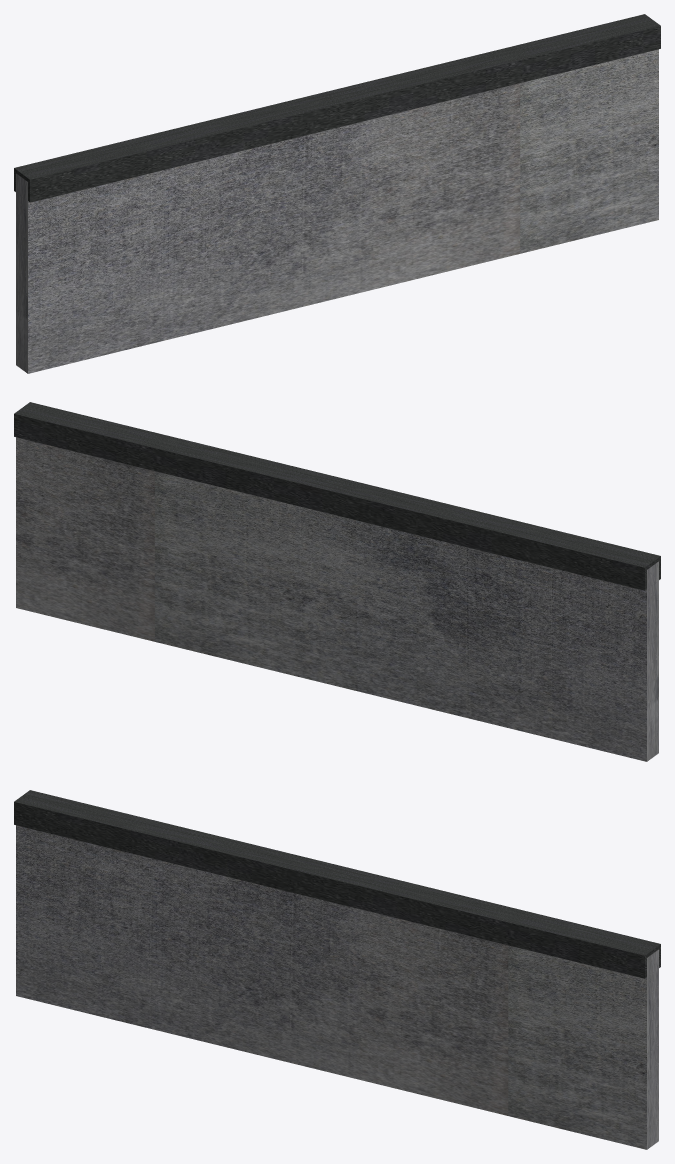
The model's file is Course_Wall.fbx.
3 renders of one model, top to bottom at view 1: azimuth 30°, elevation 25°; view 2: azimuth 150°, elevation 25°; view 3: azimuth 330°, elevation 25°, orthographic.
Parts seen in each view (by area): view 1: Course_Wall; view 2: Course_Wall; view 3: Course_Wall.
Boxes of the visible parts, <box> form: Course_Wall: <box>14,14,660,373</box>; Course_Wall: <box>14,402,660,761</box>; Course_Wall: <box>14,790,660,1149</box>.
Size of the model in its own units: 263 by 77.88 by 11.6.
Materials: 2 (2 with a texture image).
